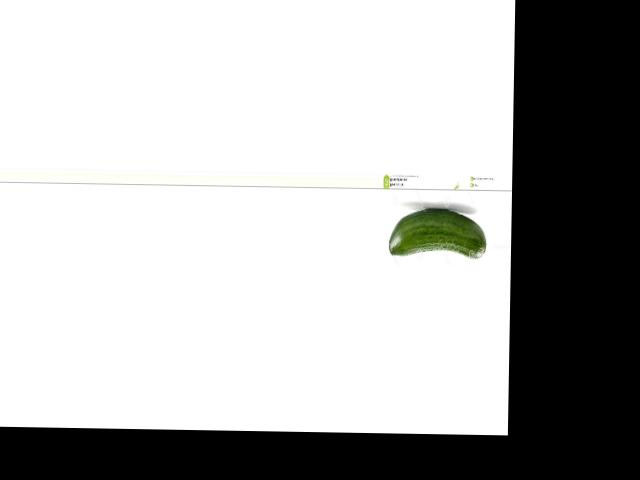cucumber: (389, 207, 487, 257)
